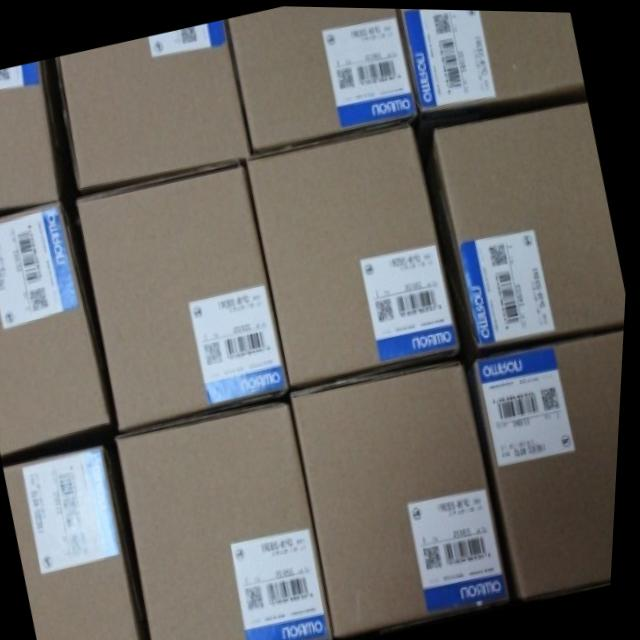box: (293, 358, 516, 637), (79, 159, 293, 432), (247, 121, 463, 387), (426, 97, 629, 366), (119, 399, 339, 640), (470, 327, 627, 595), (55, 18, 252, 190), (0, 201, 116, 457), (7, 444, 156, 640), (228, 5, 417, 148), (400, 7, 586, 107), (0, 57, 78, 209)
